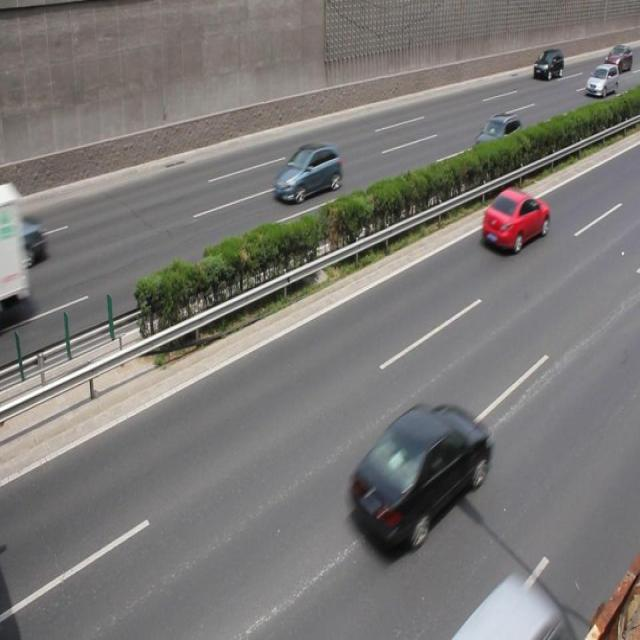car: (345, 401, 491, 558), (273, 140, 341, 206), (481, 186, 548, 251), (469, 111, 522, 166), (583, 62, 617, 97), (532, 50, 563, 80)
